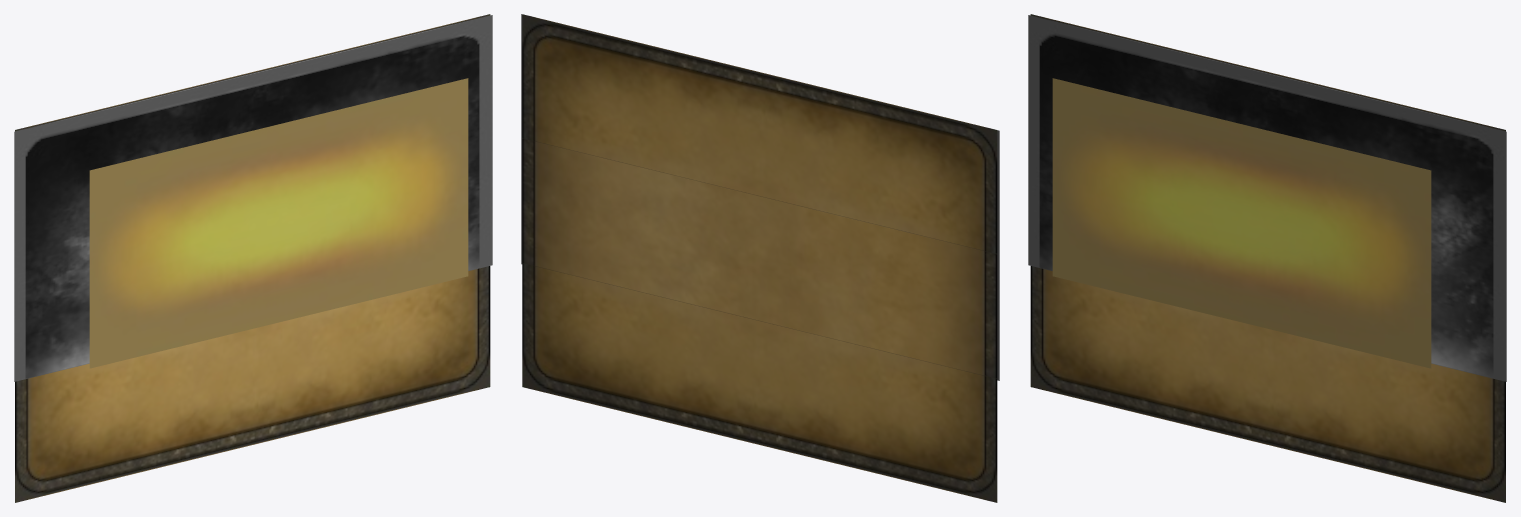
Rendered from gui_card_detail.fbx.
The picture shows the model from 3 angles, left to right: view 1: azimuth 30°, elevation 25°; view 2: azimuth 150°, elevation 25°; view 3: azimuth 330°, elevation 25°; orthographic projection.
Visible parts, largest first — view 1: glow, bottom_panel, color, top_panel; view 2: middle_panel, bottom_panel, top_panel, color; view 3: glow, bottom_panel, color, top_panel.
Part boxes in pixels (x1,y1,x2,y2): glow: (89,78,468,368); bottom_panel: (15,266,490,502); color: (14,15,492,381); top_panel: (15,14,490,131); middle_panel: (522,138,997,378); bottom_panel: (522,263,997,502); top_panel: (522,14,997,254); color: (521,14,999,380); glow: (1052,78,1431,368); bottom_panel: (1030,266,1505,502); color: (1028,15,1506,381); top_panel: (1030,14,1505,131).
Size of the model in its own units: 845 by 630 by 80.16.
Materials: 4 (4 with a texture image).
